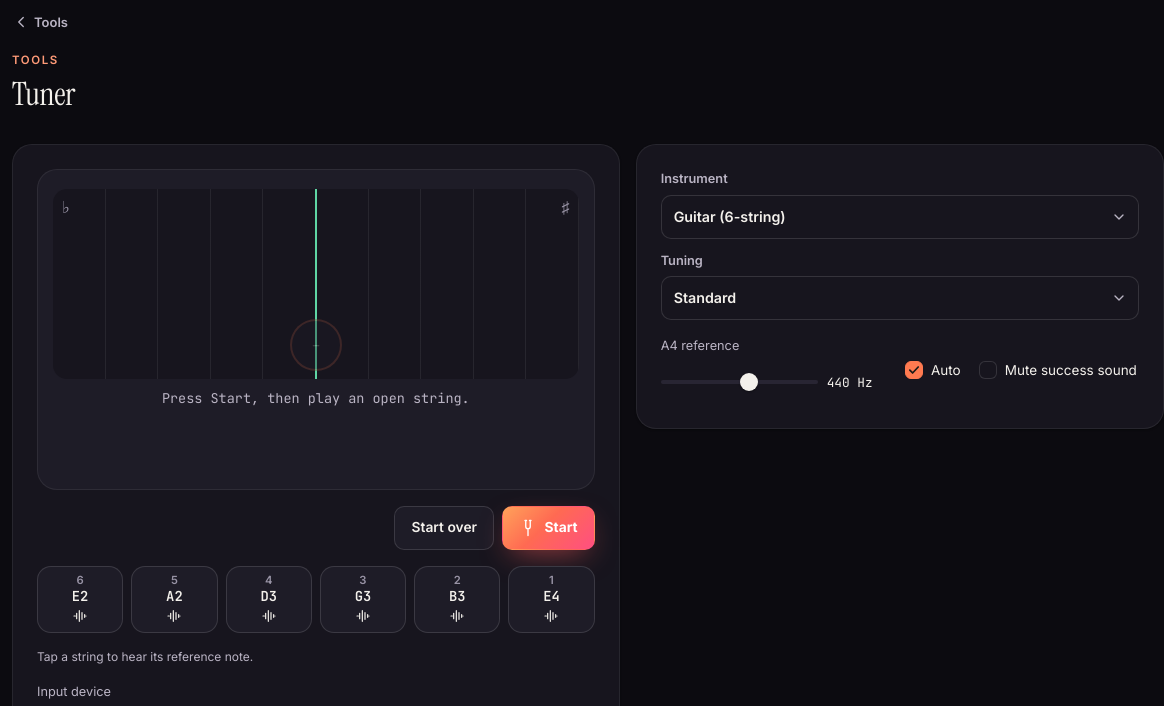
Test case: StandaloneTunerView › supports custom tuning input
This screenshot has width=1164, height=706.
Select "Custom" in the dropdown with test id "tuner-tuning". click: (900, 298)
box: [661,276,1139,320]
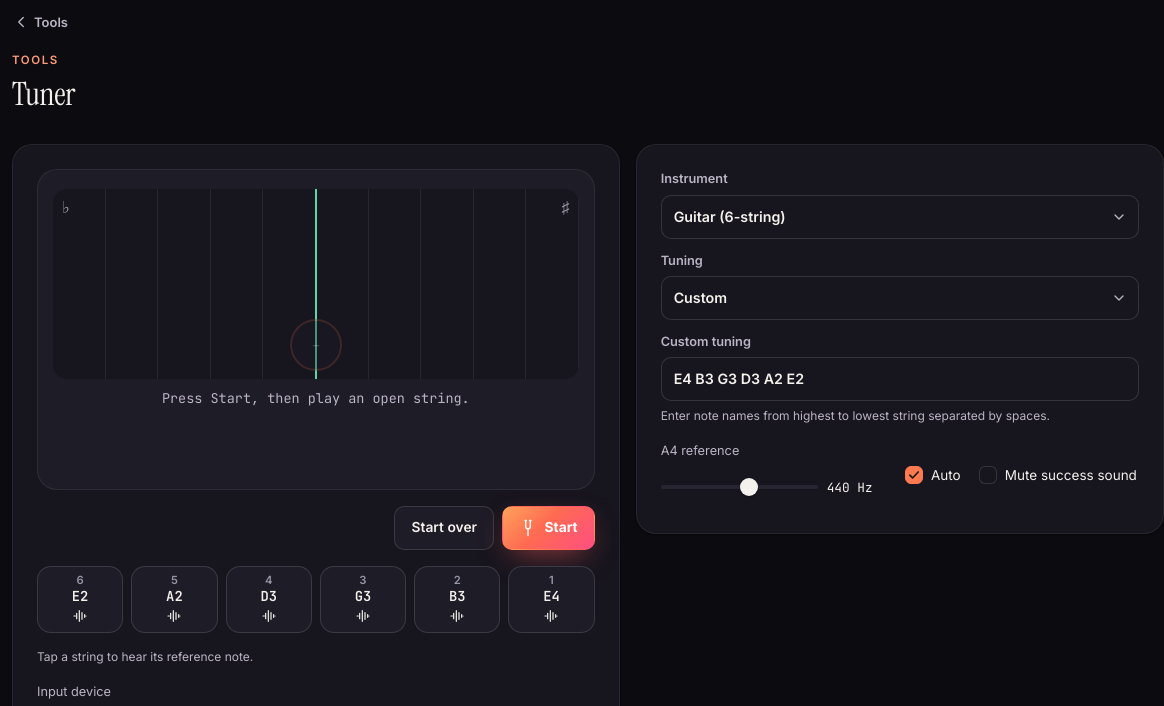
Now the field with test id "tuner-custom-tuning" is shown
Replace the text in the field with test id "tuner-custom-tuning" with "D4 A3 G3 D3 A2 D2". click: (900, 379)
box: [661,357,1139,401]
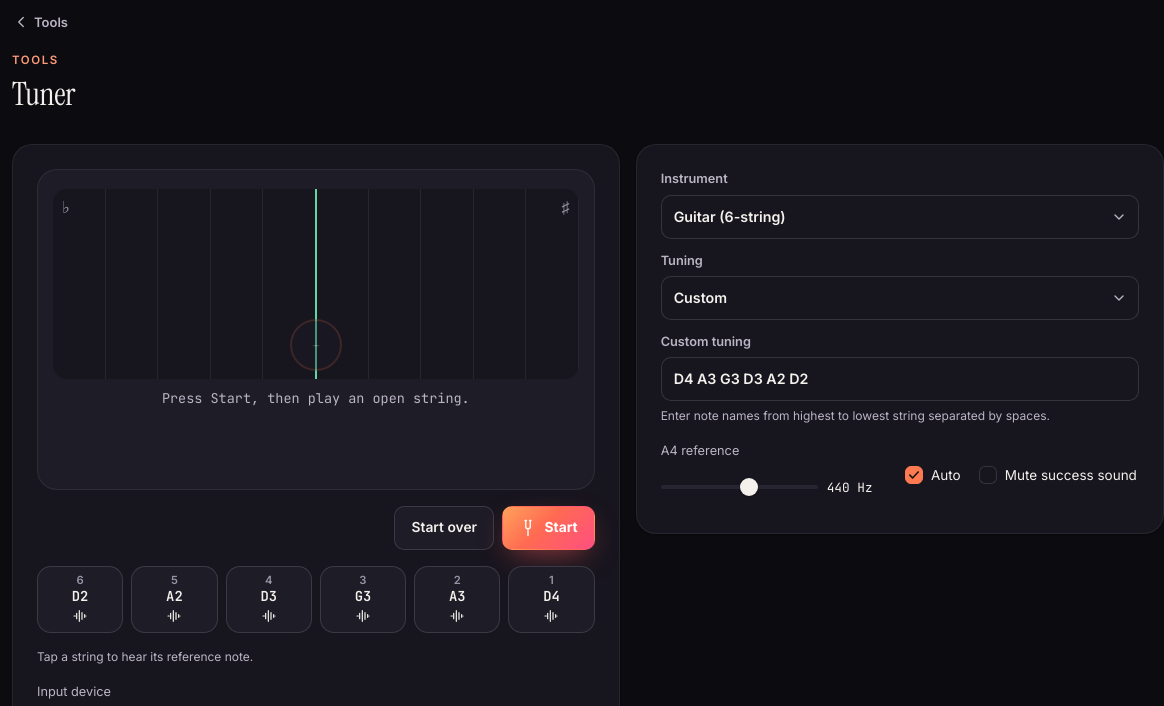
Now the button with test id "tuner-string-5" shows "D2", box [37,566,123,633]
Now the button with test id "tuner-string-0" shows "D4", box [508,566,595,633]
